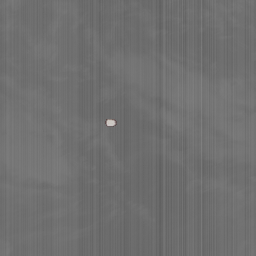Target: (104, 117, 118, 127)
